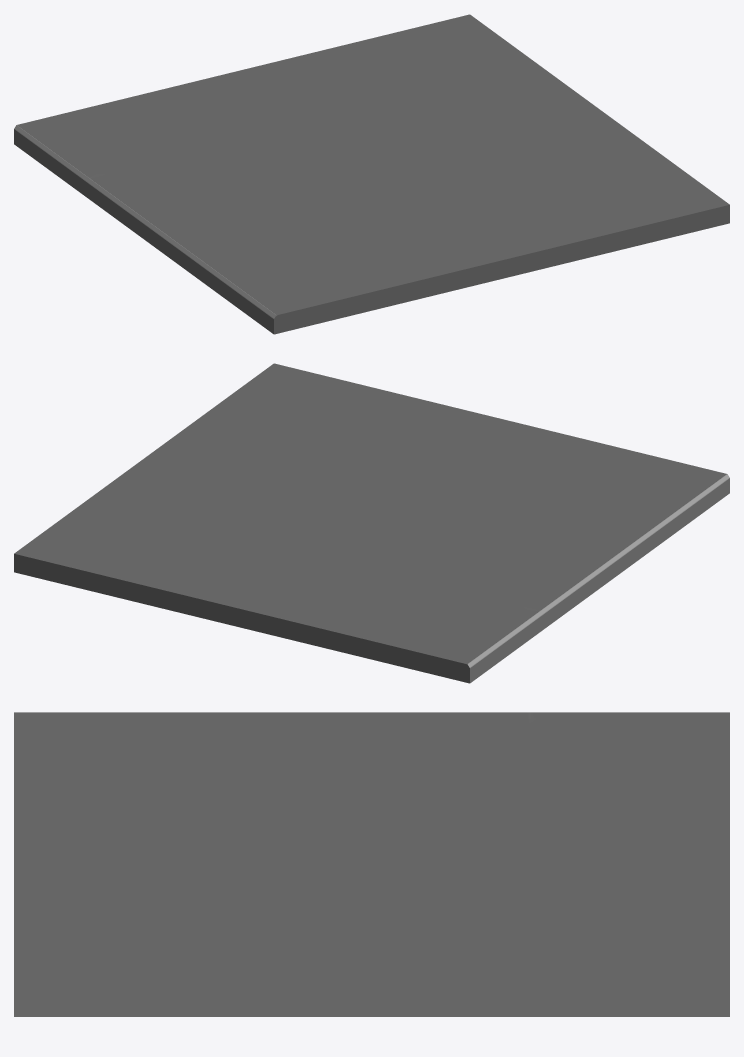
The model's file is platform3.fbx.
3 renders of one model, top to bottom at view 1: azimuth 30°, elevation 25°; view 2: azimuth 150°, elevation 25°; view 3: azimuth 270°, elevation 25°, orthographic. The views are drawn at different scales.
Parts seen in each view (by area): view 1: Plane.020; view 2: Plane.020; view 3: Plane.020.
Part boxes in pixels (<box>): Plane.020: <box>14,14,729,334</box>; Plane.020: <box>14,363,729,683</box>; Plane.020: <box>14,712,729,1016</box>.
Bounding box in the file's own units: 10.12 × 0.3953 × 10.
